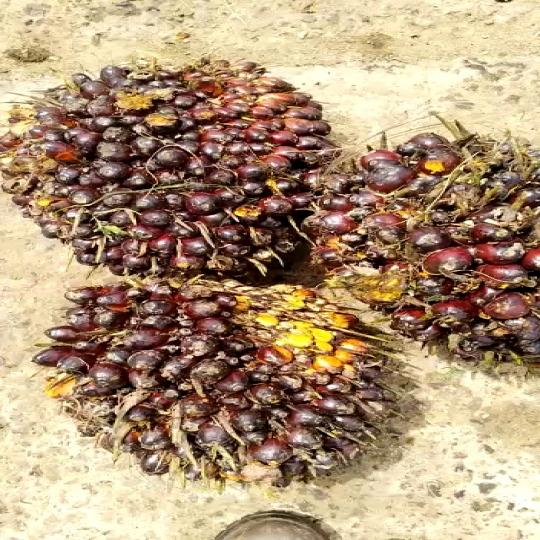kurang masak: (42, 280, 406, 498), (0, 64, 328, 270), (303, 120, 540, 390)
